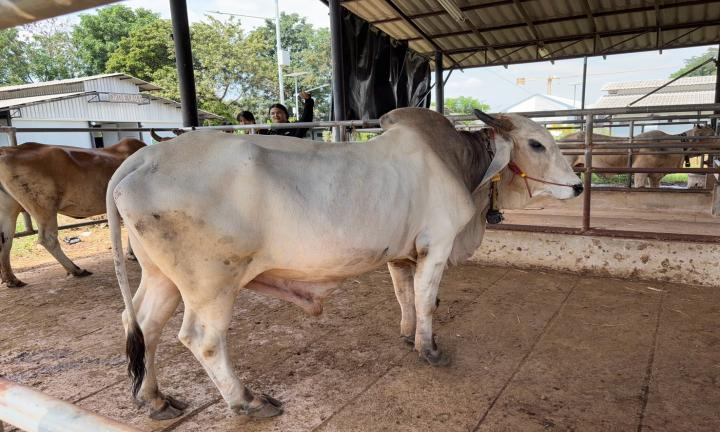Brahman: (106, 108, 580, 418), (383, 228, 384, 231)
